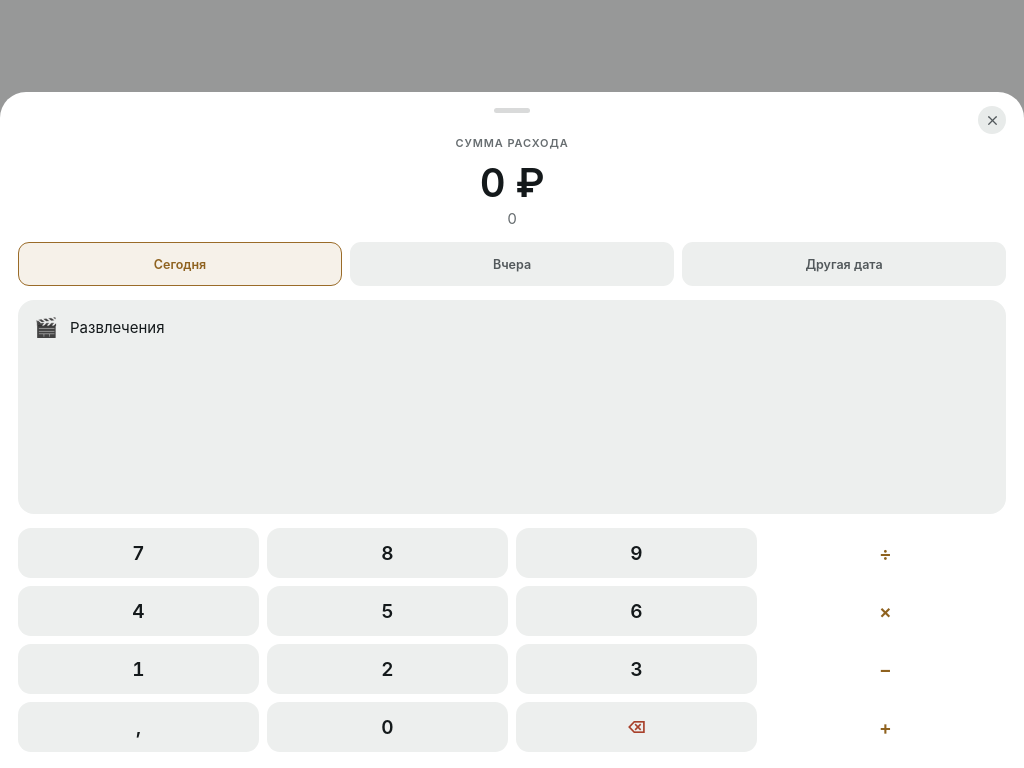
Test: ExpenseModal — adding a new expense › replaces a pending operator when a different one is tapped, instead of ignoring the new tap
Click the button with class "keypad__key" showing "5".
click(388, 611)  # box [267,586,508,636]
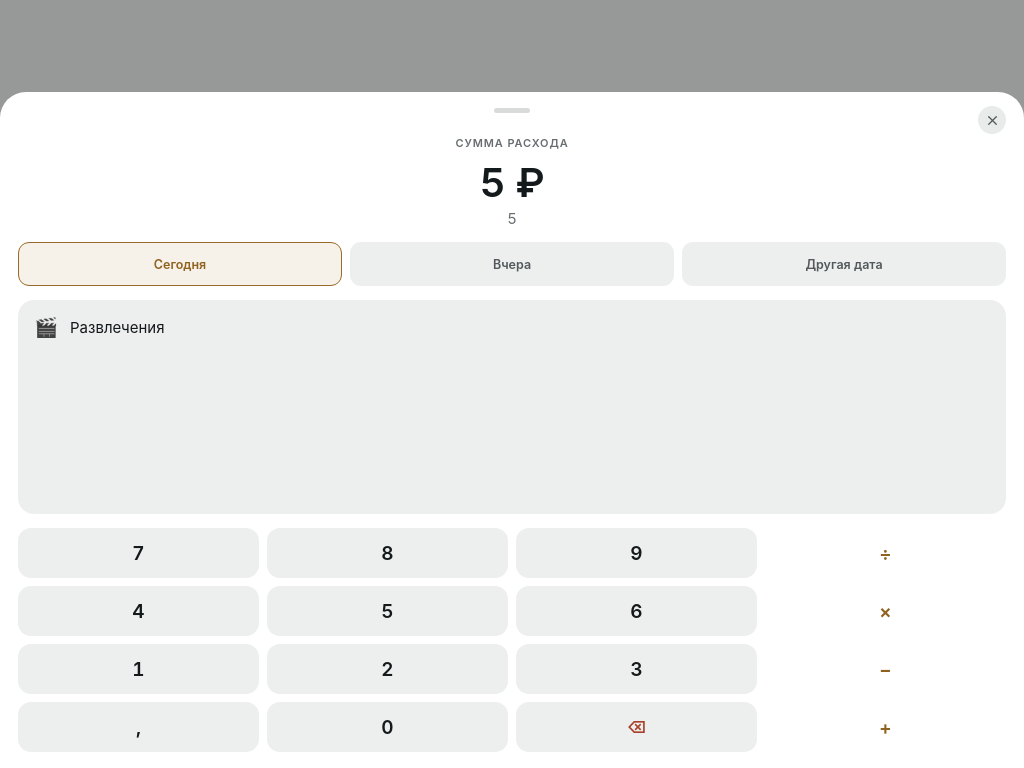
Click the button with class "keypad__key" showing "+".
click(886, 727)  # box [765,702,1006,752]
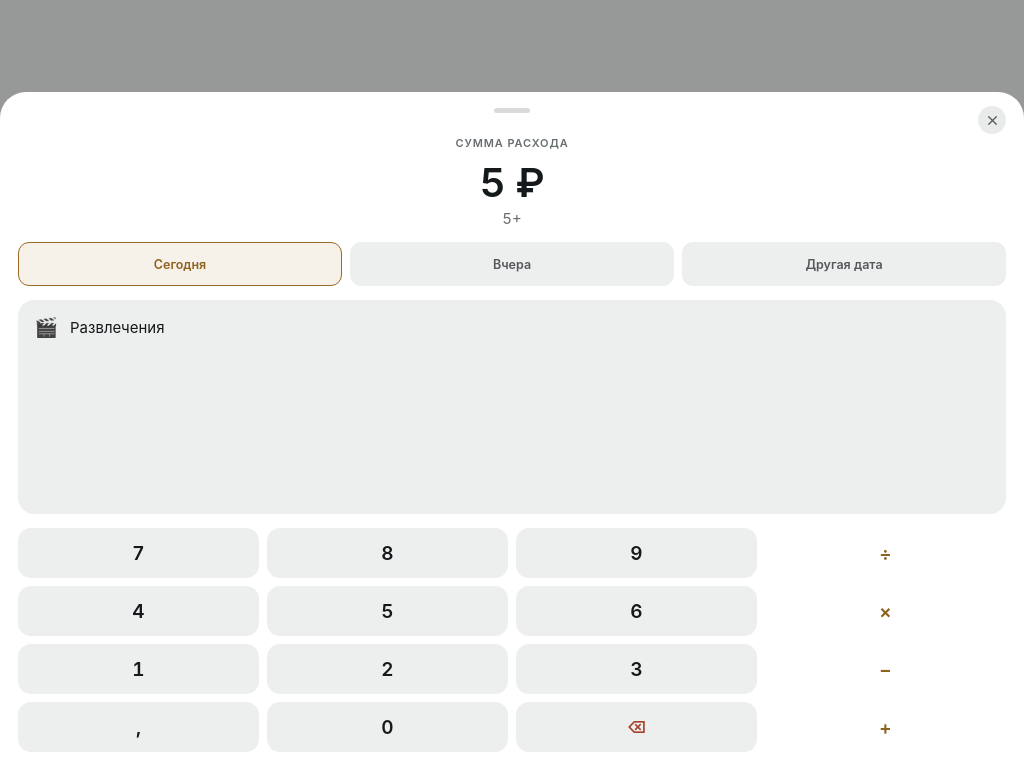
Click the button with class "keypad__key" showing "×".
click(886, 611)  # box [765,586,1006,636]
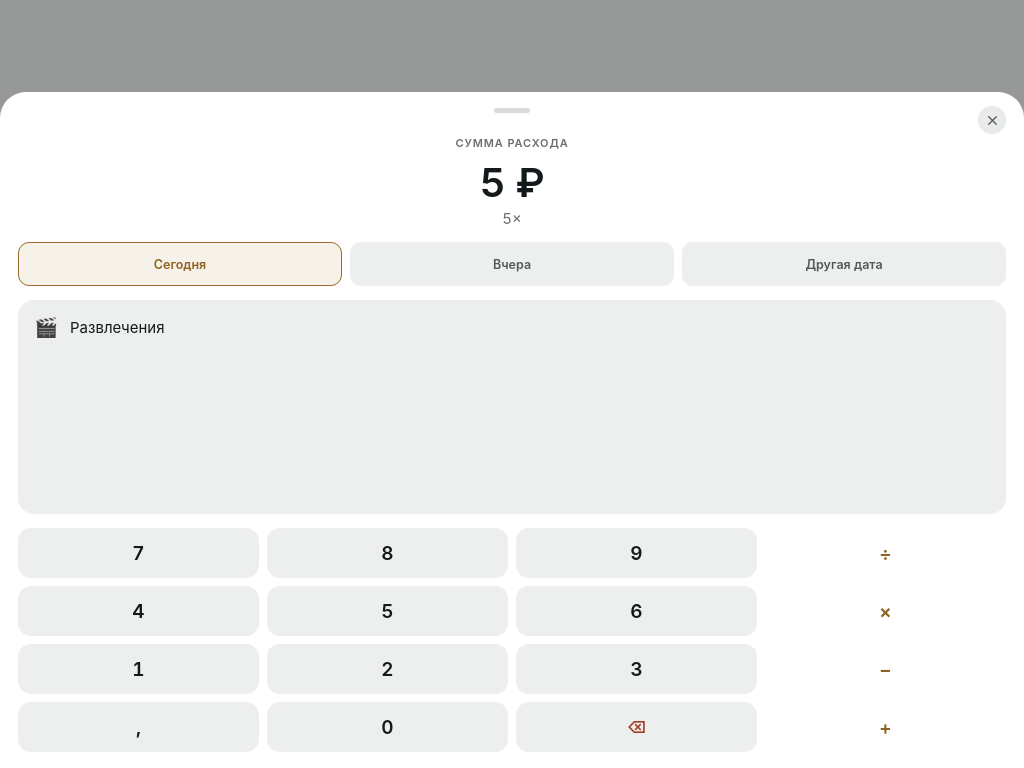
Result: the text with class "expense-modal__entry-expression" reads "5×" at [502,209,522,228]
